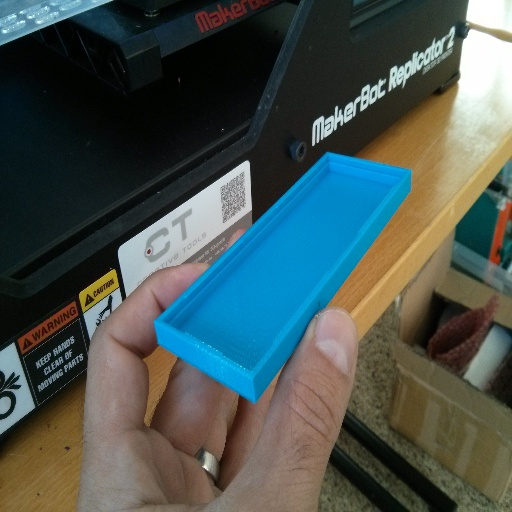hand: (72, 229, 360, 511)
